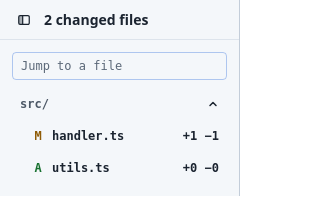
finding a file in a long review › says so when nothing matches
The width and height of the screenshot is (320, 213).
In the search field with test id "file-filter": (120, 66) [12, 52, 227, 80], type "zzz"
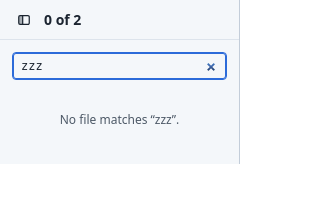
Expected: no buttons with test id "file-item" are shown
Expected: the element with test id "no-matches" is shown, [60, 111, 179, 128]
